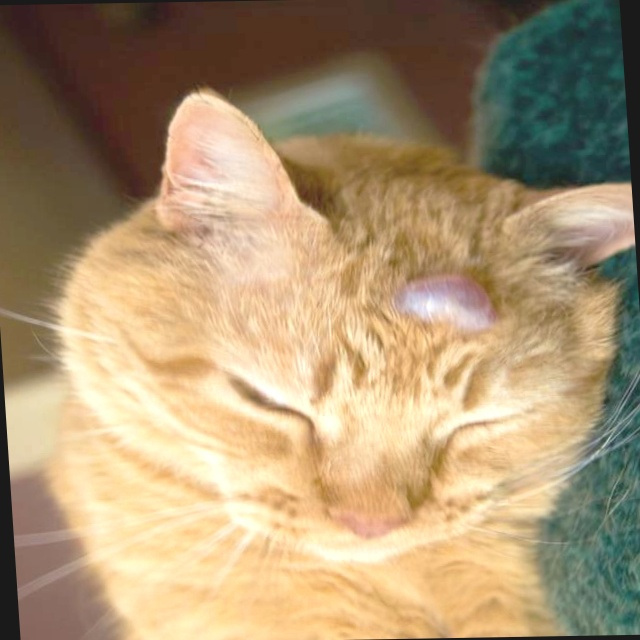lump_and_bump: (395, 275, 503, 328)
